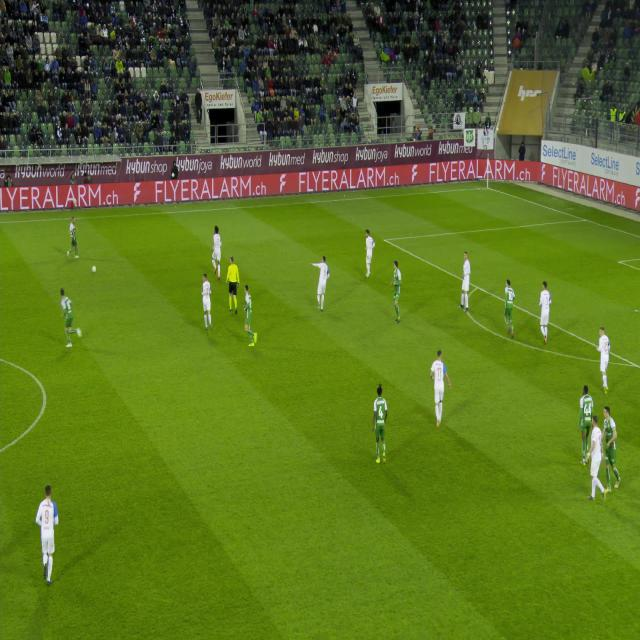Player: (30, 479, 71, 593), (587, 414, 612, 512), (430, 347, 457, 436), (369, 379, 395, 470), (54, 287, 84, 360), (603, 402, 625, 493), (311, 248, 337, 324), (385, 258, 411, 328), (500, 273, 524, 346), (592, 319, 615, 392), (452, 247, 476, 315), (237, 281, 259, 355), (534, 274, 556, 347), (199, 262, 218, 337), (358, 224, 381, 283), (209, 217, 227, 286), (576, 374, 597, 427), (65, 209, 82, 263)
Referee: (225, 248, 242, 315)
